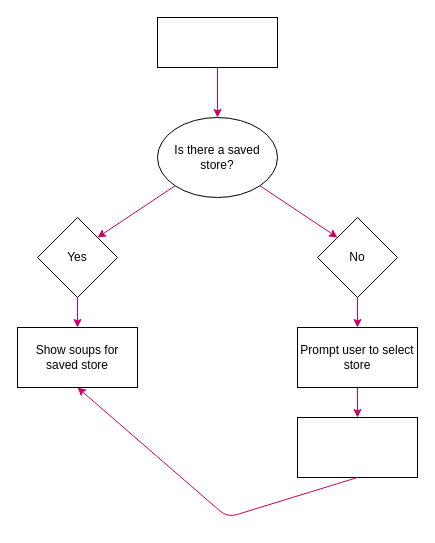
Image size: 435x543. Some labels were removed from this diagram. Here are the shapes that lost their labels. From the top down, the box of each, then its label:
(156, 16, 278, 68): Run ./soup
(296, 416, 418, 478): User selects store; store ID is saved to local file
